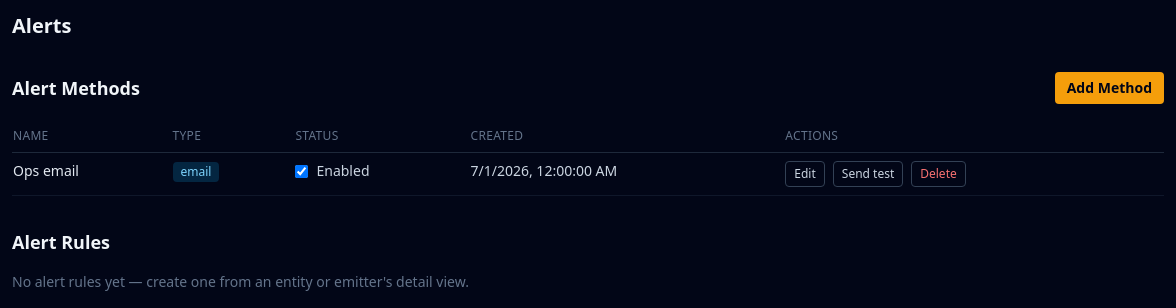
Test: "Send test" renders Failed + reason when delivery fails
Expected: the row with test id "alert-method-row-method-1" is shown, [12,152,1164,196]
What coordinates should you click on to do the following:
click the button "Send test"
I would click on:
 (868, 174)
Its box is [833,161,903,187].
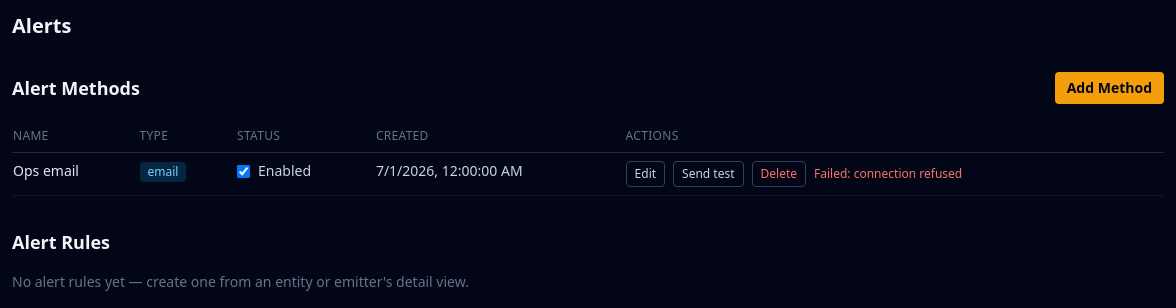
Result: the text "Failed: connection refused" is shown at [814,166,962,182]
